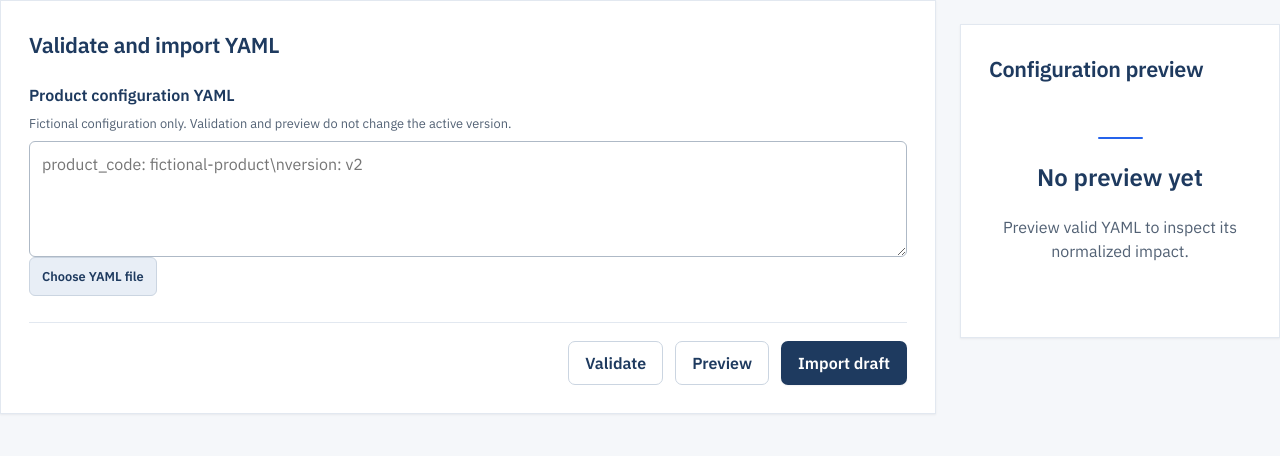
Test: product import panel › says when a version configures no checks
In the text box labelled "Product configuration YAML": (468, 199) [29,141,907,257], type "product_code: motor-private-car"
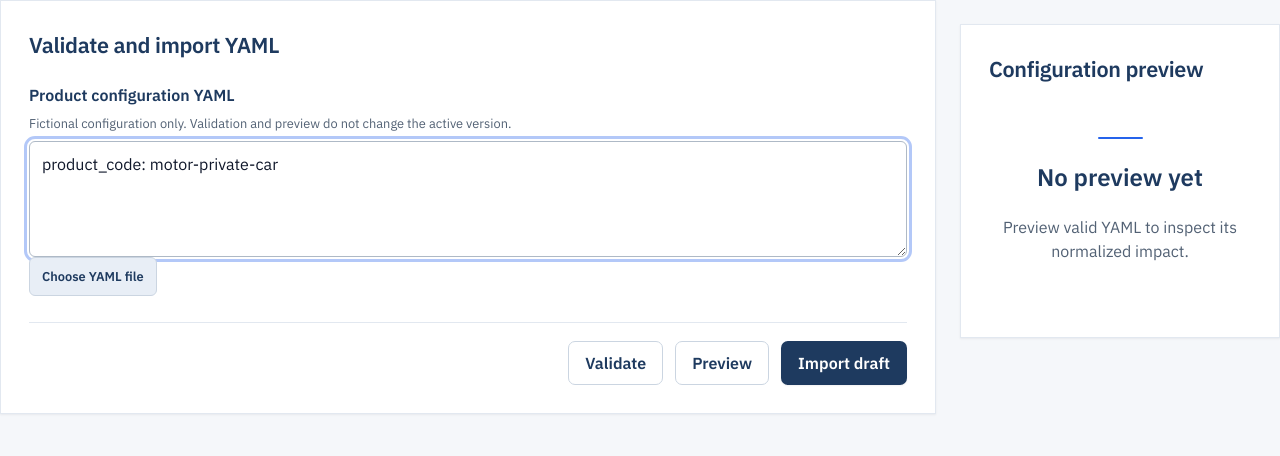
Click the button "Preview": (722, 363) [675,341,769,385]
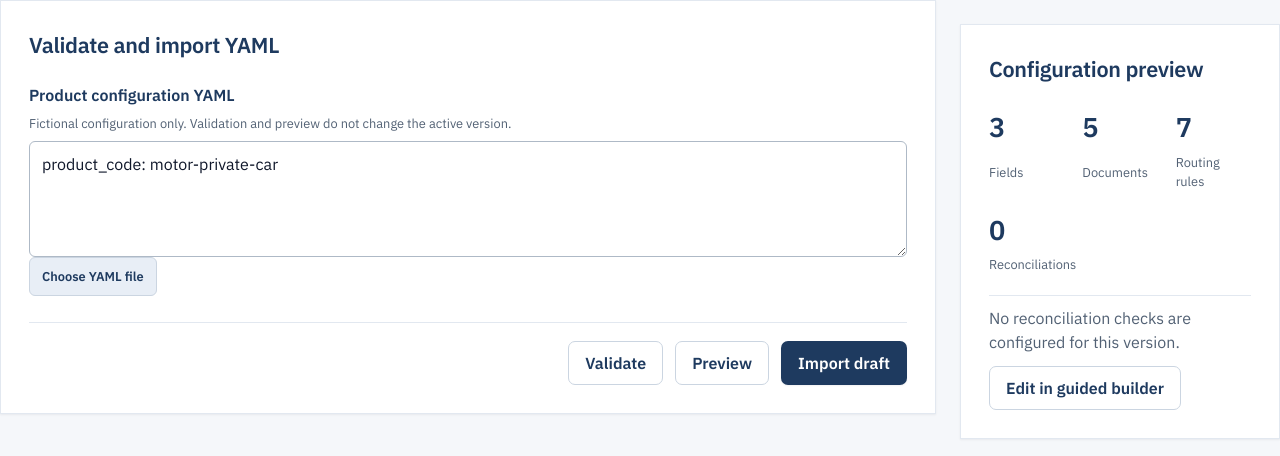
Expected: the text "No reconciliation checks are configured for this version." is shown, [989,308,1191,352]
